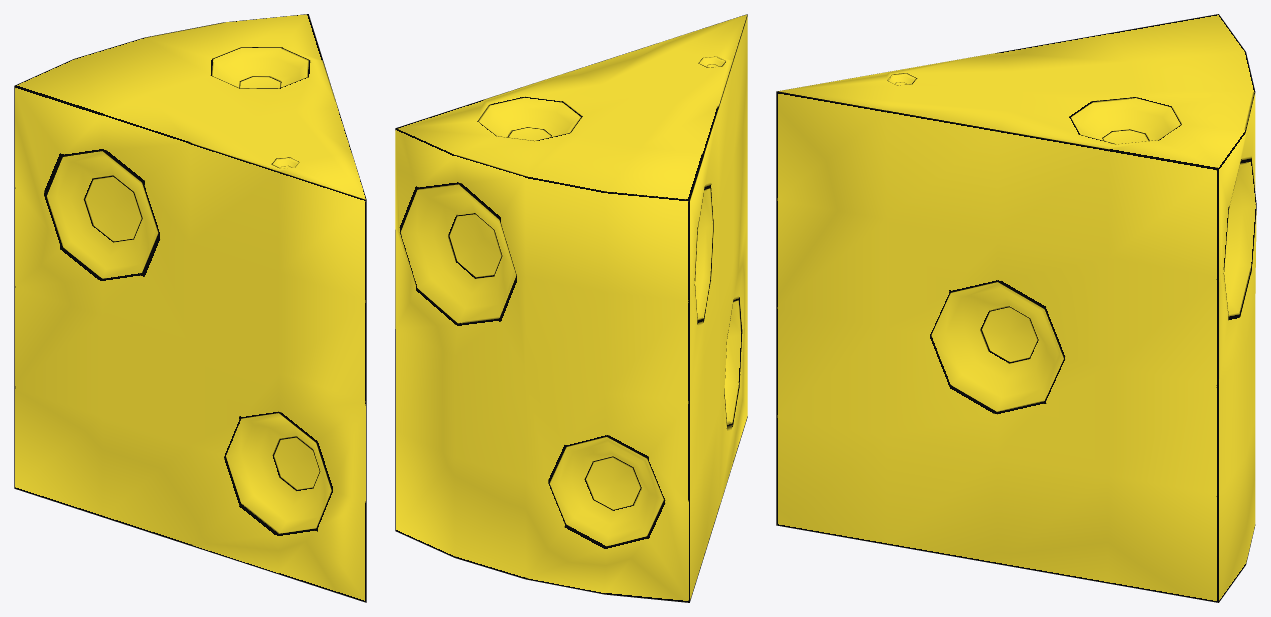
File: Cheese.glb
3 renders of one model, left to right at view 1: azimuth 30°, elevation 25°; view 2: azimuth 150°, elevation 25°; view 3: azimuth 270°, elevation 25°, orthographic. The views are drawn at different scales.
Visible parts, largest first — view 1: Cheese.Export; view 2: Cheese.Export; view 3: Cheese.Export.
Part boxes in pixels (box(x1,y1,x2,y2)): Cheese.Export: box(14, 14, 366, 602); Cheese.Export: box(395, 14, 747, 602); Cheese.Export: box(776, 14, 1256, 602).
Bounding box in the file's own units: 0.7654 × 1 × 1.
1 material, 1 textured.
